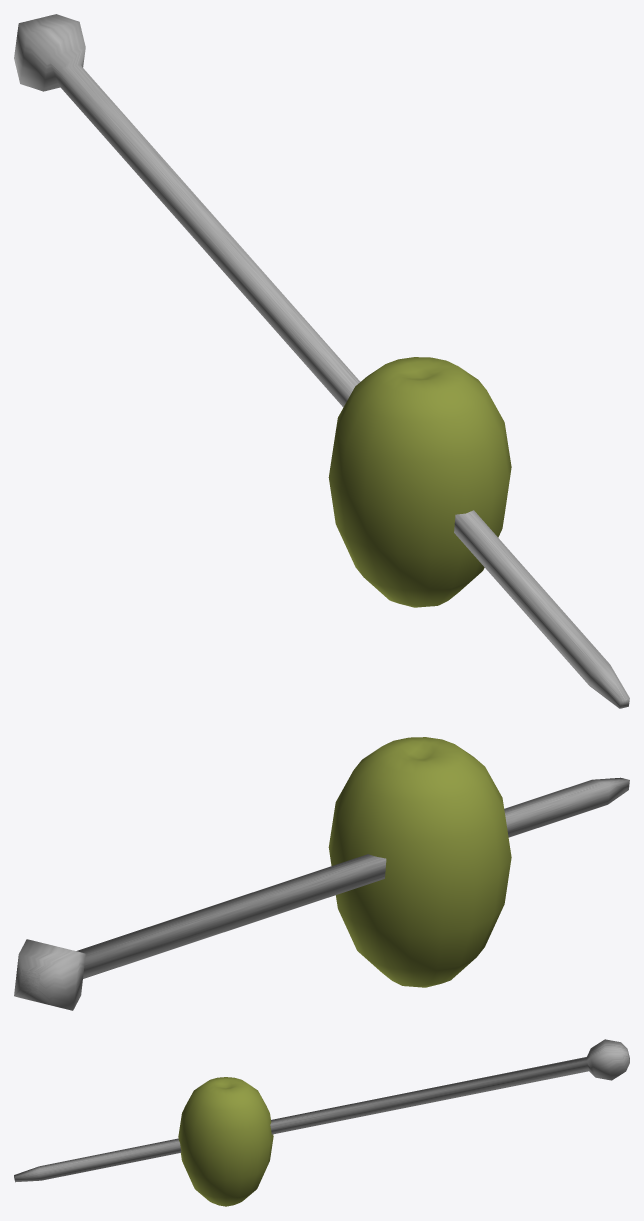
The model's file is garnish-olive.fbx.
3 renders of one model, top to bottom at view 1: azimuth 30°, elevation 25°; view 2: azimuth 150°, elevation 25°; view 3: azimuth 270°, elevation 25°, orthographic. The views are drawn at different scales.
Parts seen in each view (by area): view 1: garnish_olive, toothpick; view 2: garnish_olive, toothpick; view 3: garnish_olive, toothpick.
Part boxes in pixels (<box>): garnish_olive: <box>328,357,511,607</box>; toothpick: <box>14,14,629,708</box>; garnish_olive: <box>328,737,511,987</box>; toothpick: <box>14,777,629,1010</box>; garnish_olive: <box>178,1077,273,1206</box>; toothpick: <box>14,1039,629,1182</box>.
Bounding box in the file's own units: 0.0153 × 0.0281 × 0.099.
